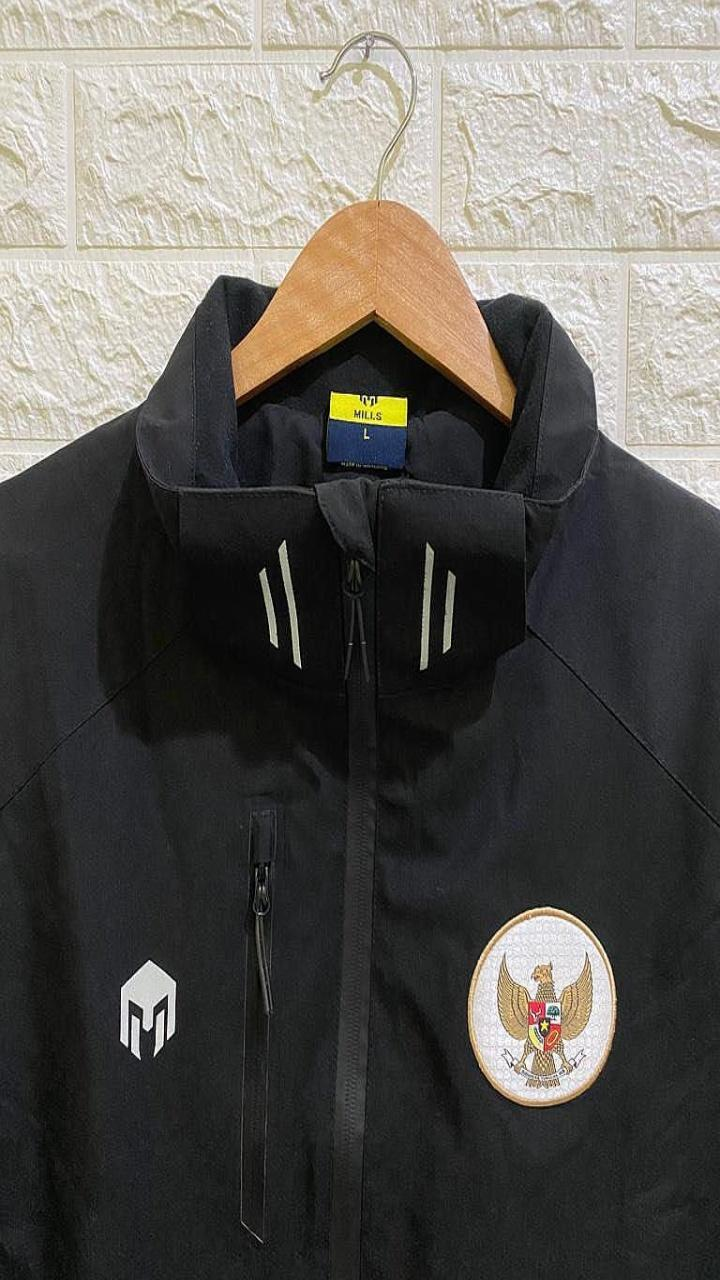Sports_Jacket: (0, 276, 719, 1279)
